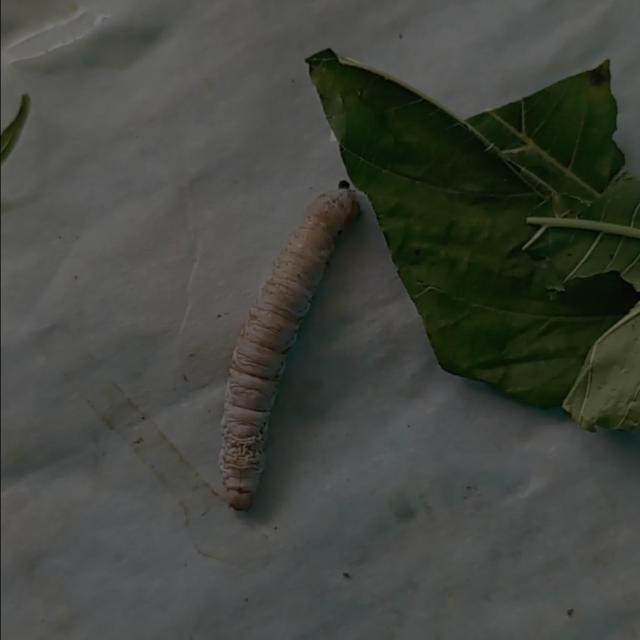Grasserie: (158, 147, 388, 553)
